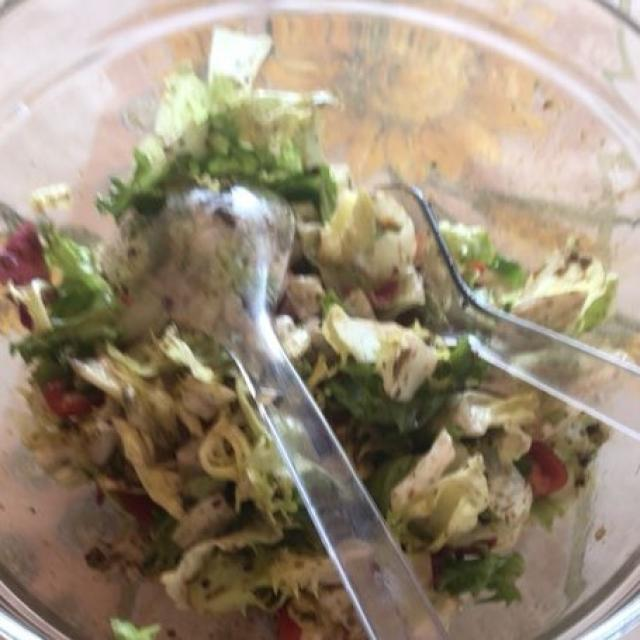salad: (0, 77, 630, 630), (17, 66, 614, 634)
